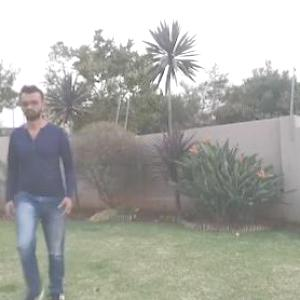follow: (10, 89, 69, 296)
